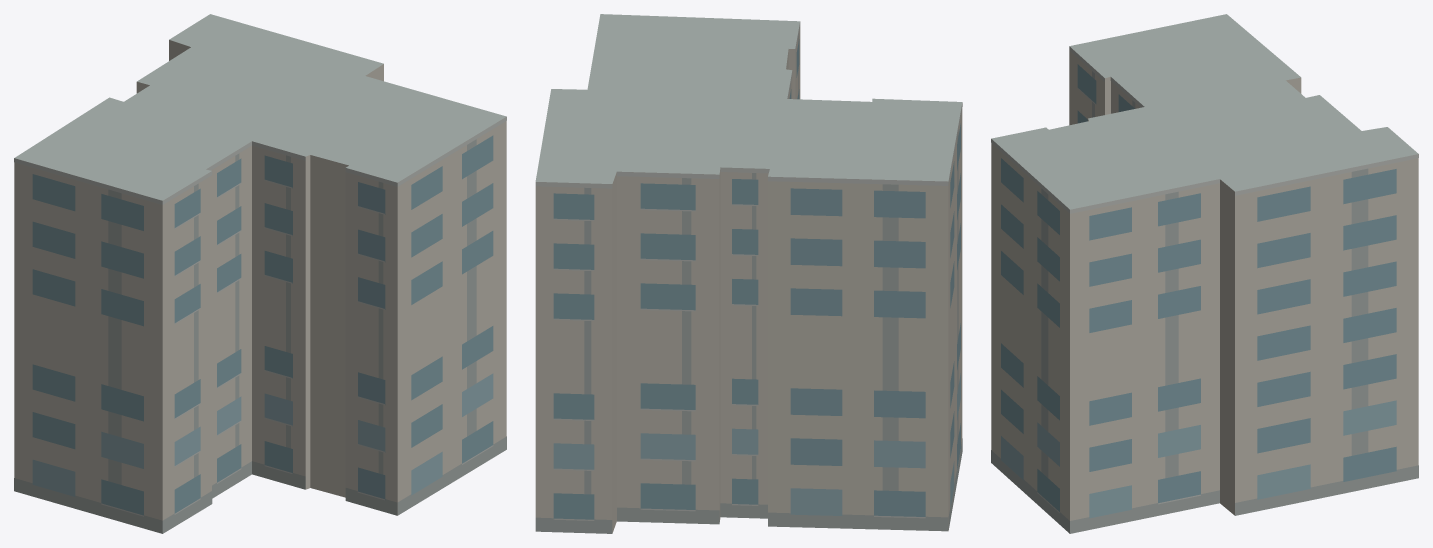
The model's file is survey-upis-32702410.glb.
The picture shows the model from 3 angles, left to right: view 1: azimuth 30°, elevation 25°; view 2: azimuth 150°, elevation 25°; view 3: azimuth 270°, elevation 25°; orthographic projection. The views are drawn at different scales.
Visible parts, largest first — view 1: survey-upis-32702410.tmp; view 2: survey-upis-32702410.tmp; view 3: survey-upis-32702410.tmp.
Part boxes in pixels (x1=…): survey-upis-32702410.tmp: x1=14, y1=14, x2=506, y2=533; survey-upis-32702410.tmp: x1=535, y1=14, x2=962, y2=533; survey-upis-32702410.tmp: x1=991, y1=14, x2=1418, y2=533.
Bounding box in the file's own units: 24.48 × 18.9 × 22.6.
